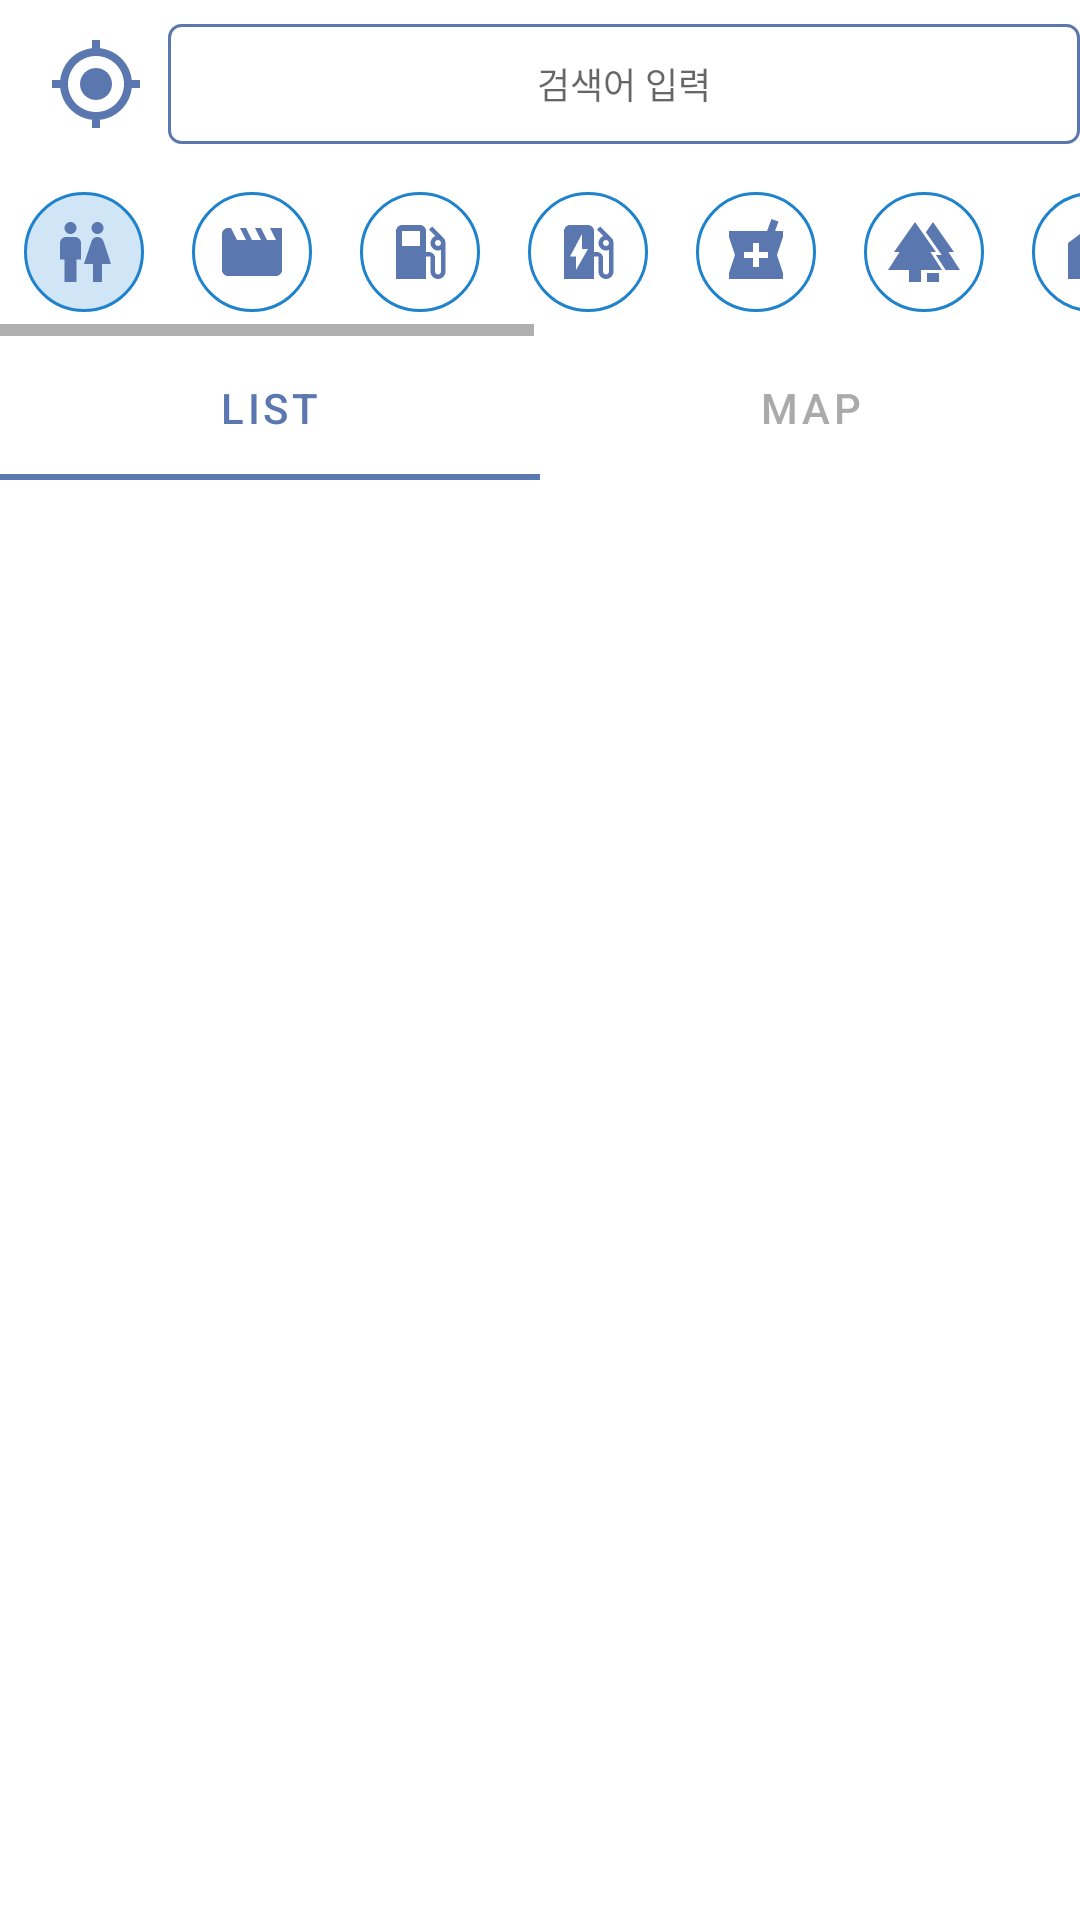

Icon click points for this 1080w x 1920h phone screenshot, format [x,y]:
ev station: [588,252]
local gas station: [420,252]
local pharmacy: [756,252]
location: [96,84]
movie: [252,252]
park: [924,252]
